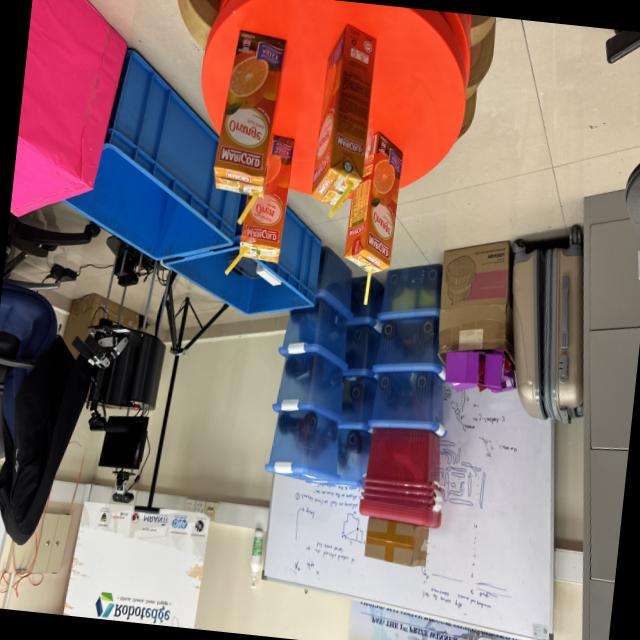drink_carton: (197, 22, 291, 238), (300, 12, 388, 228), (336, 124, 410, 314), (223, 120, 304, 284)
